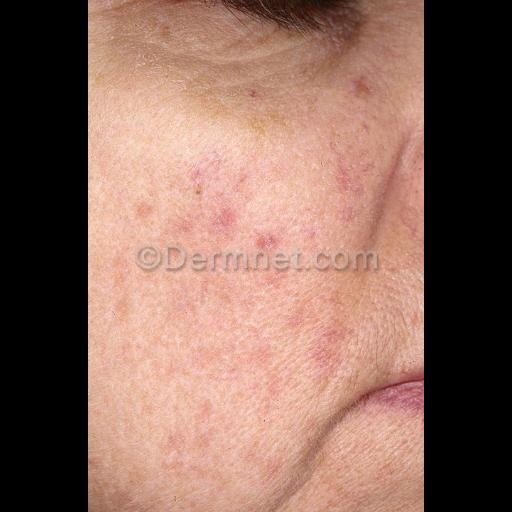Skin_Lesion: (127, 197, 167, 235), (176, 151, 216, 189), (214, 198, 242, 234), (278, 303, 306, 335), (334, 170, 362, 200), (258, 224, 280, 256), (360, 92, 374, 108)
